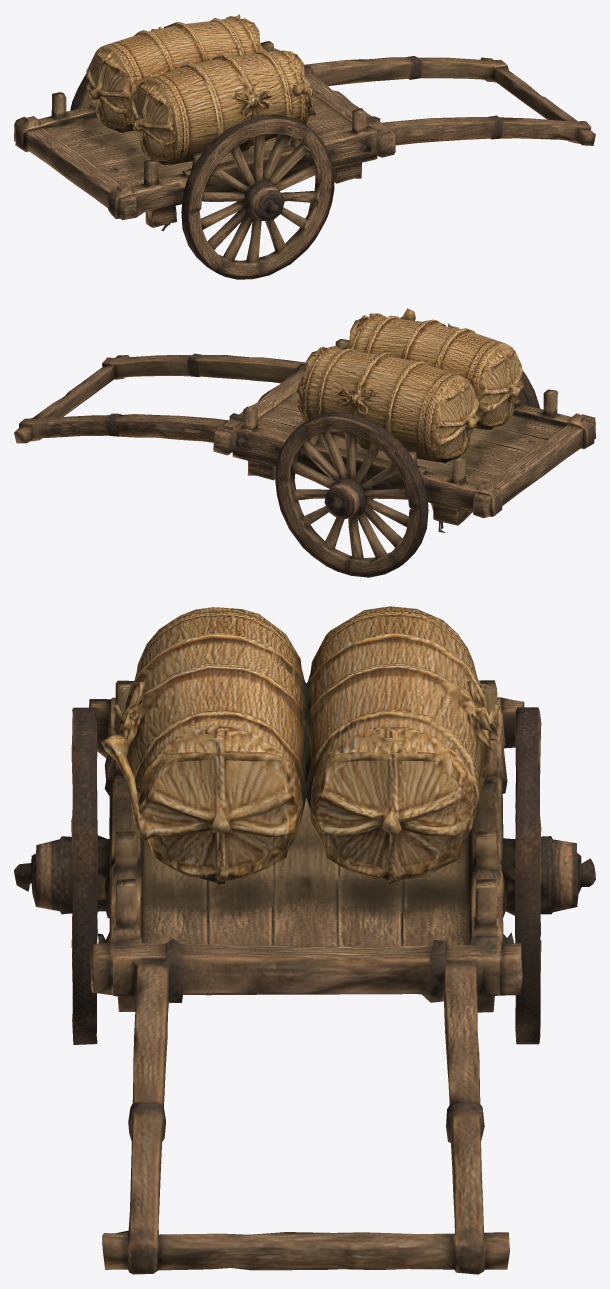
Rendered from cart.glb.
3 renders of one model, top to bottom at view 1: azimuth 30°, elevation 25°; view 2: azimuth 150°, elevation 25°; view 3: azimuth 270°, elevation 25°, orthographic. The views are drawn at different scales.
Visible parts, largest first — view 1: tripo_node_3b7db8c7-34ee-40e6-9907-0f42e2228358; view 2: tripo_node_3b7db8c7-34ee-40e6-9907-0f42e2228358; view 3: tripo_node_3b7db8c7-34ee-40e6-9907-0f42e2228358.
Boxes of the visible parts, x1,y1,x2,y2 form: tripo_node_3b7db8c7-34ee-40e6-9907-0f42e2228358: (14,14,595,279); tripo_node_3b7db8c7-34ee-40e6-9907-0f42e2228358: (14,308,595,577); tripo_node_3b7db8c7-34ee-40e6-9907-0f42e2228358: (14,606,595,1274).
Size of the model in its own units: 2.66 by 1 by 1.42.
1 material, 1 textured.
